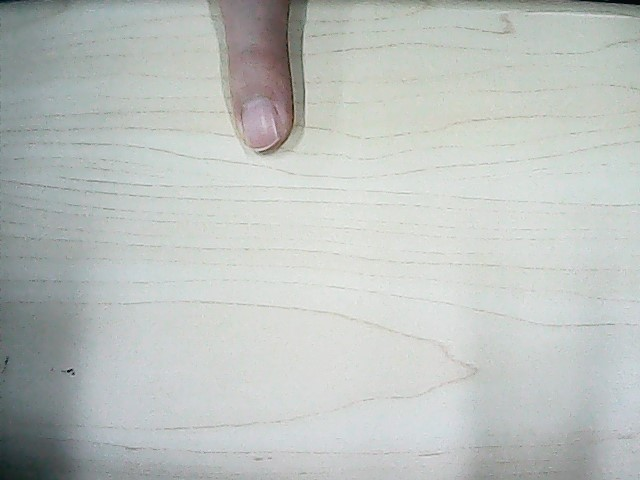nail: (240, 98, 288, 154)
